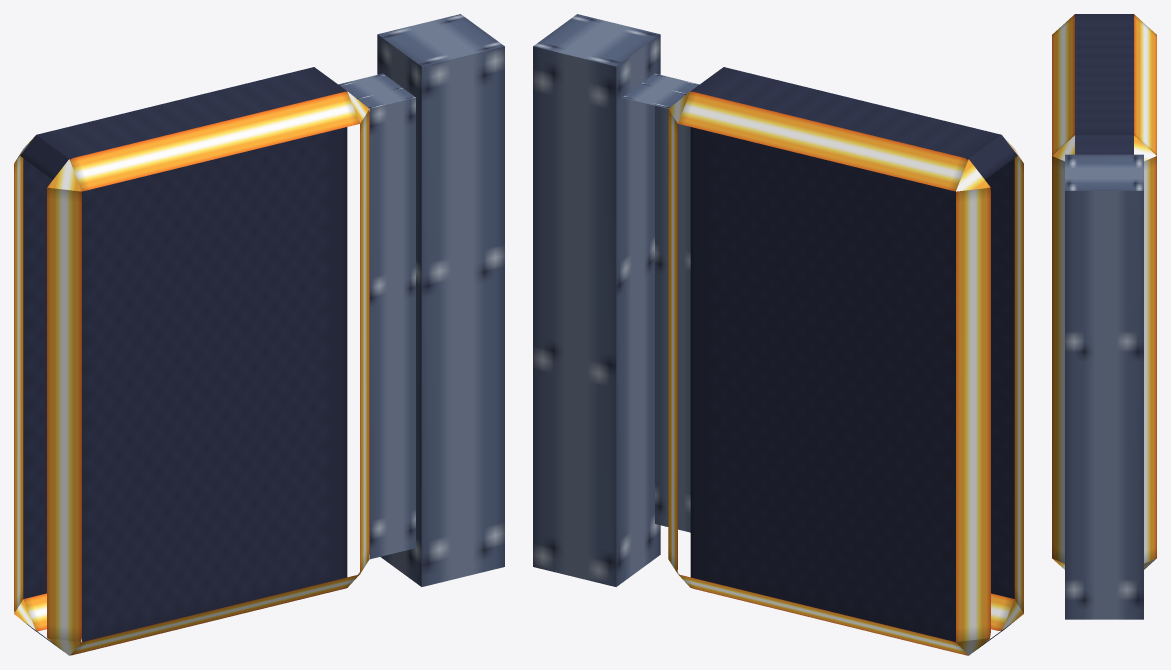
The model's file is Letreiro Lateral Robusto.v1.fbx.
The picture shows the model from 3 angles, left to right: view 1: azimuth 30°, elevation 25°; view 2: azimuth 150°, elevation 25°; view 3: azimuth 270°, elevation 25°; orthographic projection. The views are drawn at different scales.
Parts seen in each view (by area): view 1: Letreiro Lateral Robusto; view 2: Letreiro Lateral Robusto; view 3: Letreiro Lateral Robusto.
Boxes of the visible parts, <box> form: Letreiro Lateral Robusto: <box>14,14,504,655</box>; Letreiro Lateral Robusto: <box>533,14,1023,655</box>; Letreiro Lateral Robusto: <box>1052,14,1156,619</box>.
Bounding box in the file's own units: 168 × 37.68 × 184.
